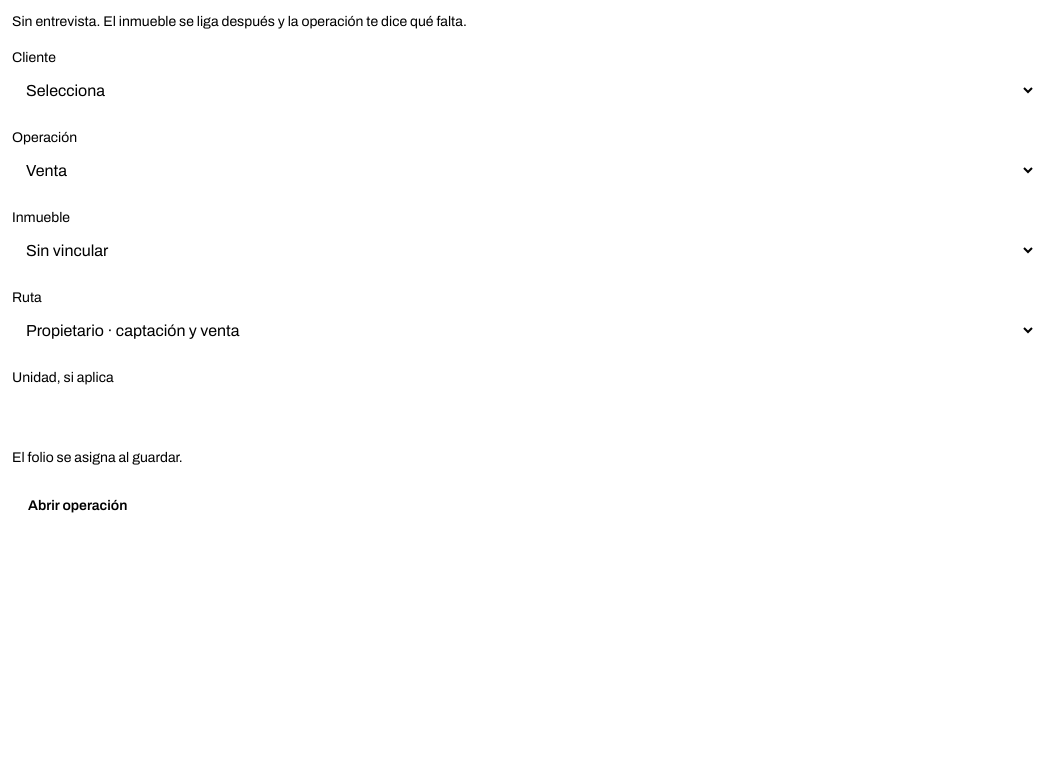
Scenario: pide asignar un asesor al cliente antes de abrir la operación
The image size is (1048, 780).
Select "Selecciona" in the dropdown labelled "Cliente" at (524, 90), box 12,68 -> 1036,112
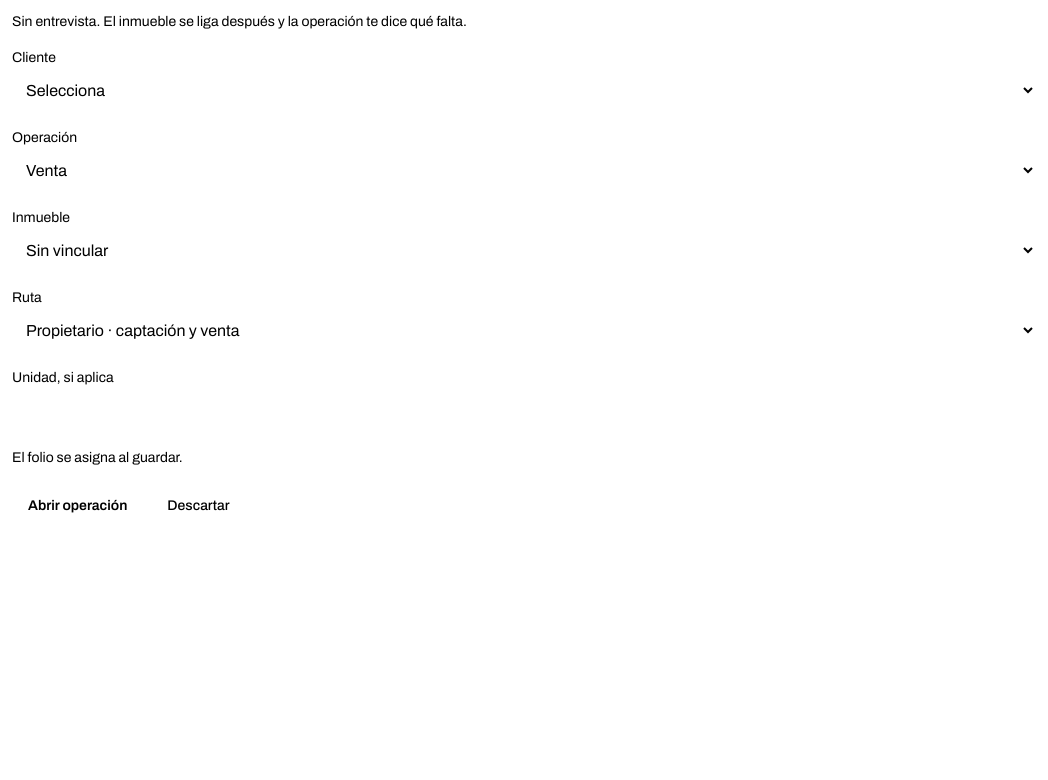
Submit the form named "Alta directa"
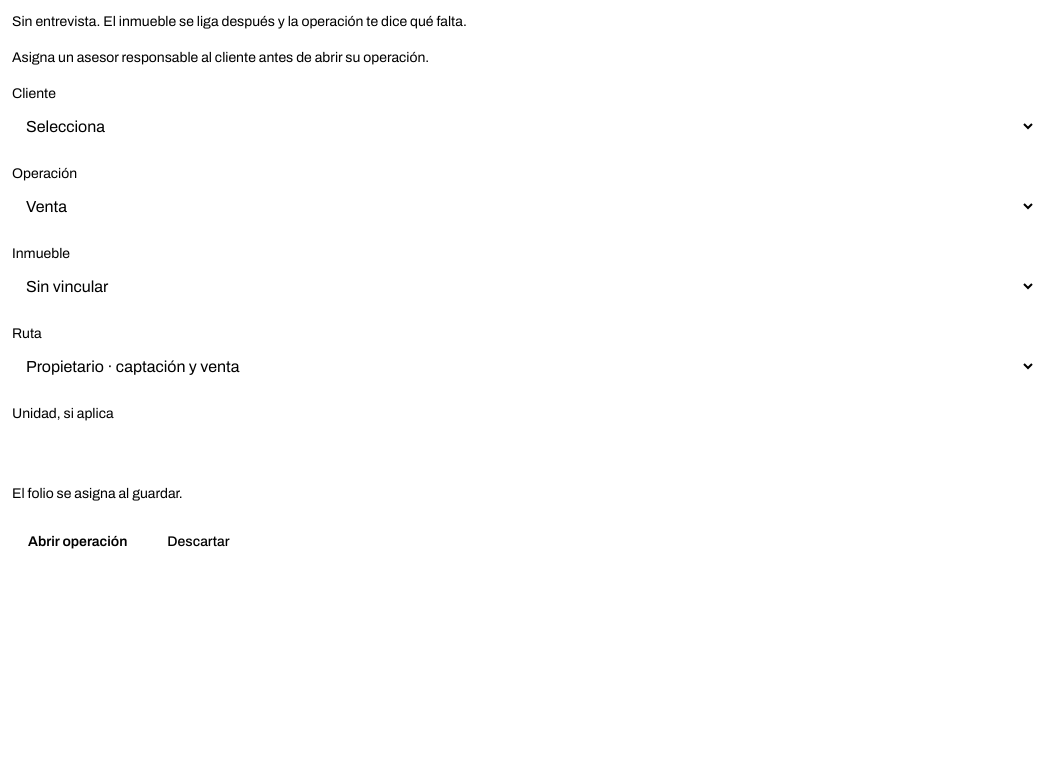
Check: the message shows "Asigna un asesor responsable", box 12,50 -> 429,65
